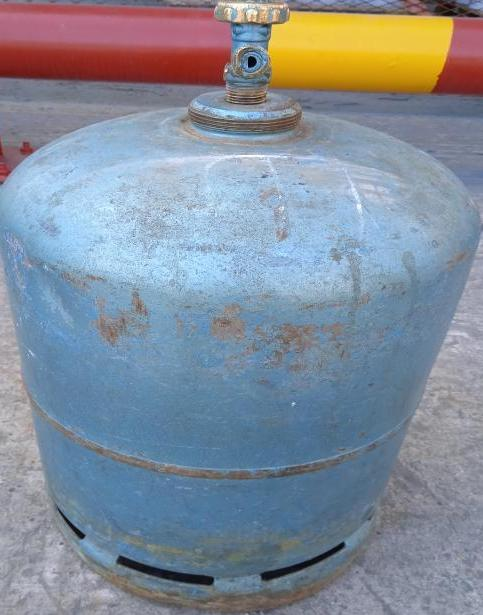cylinder: (1, 0, 483, 615)
